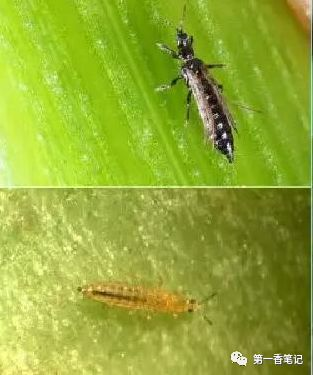thrips: (152, 26, 263, 163), (75, 276, 216, 325)
